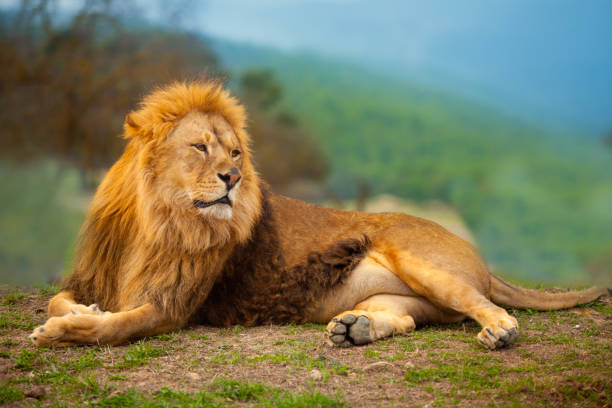lion: (60, 64, 281, 348)
